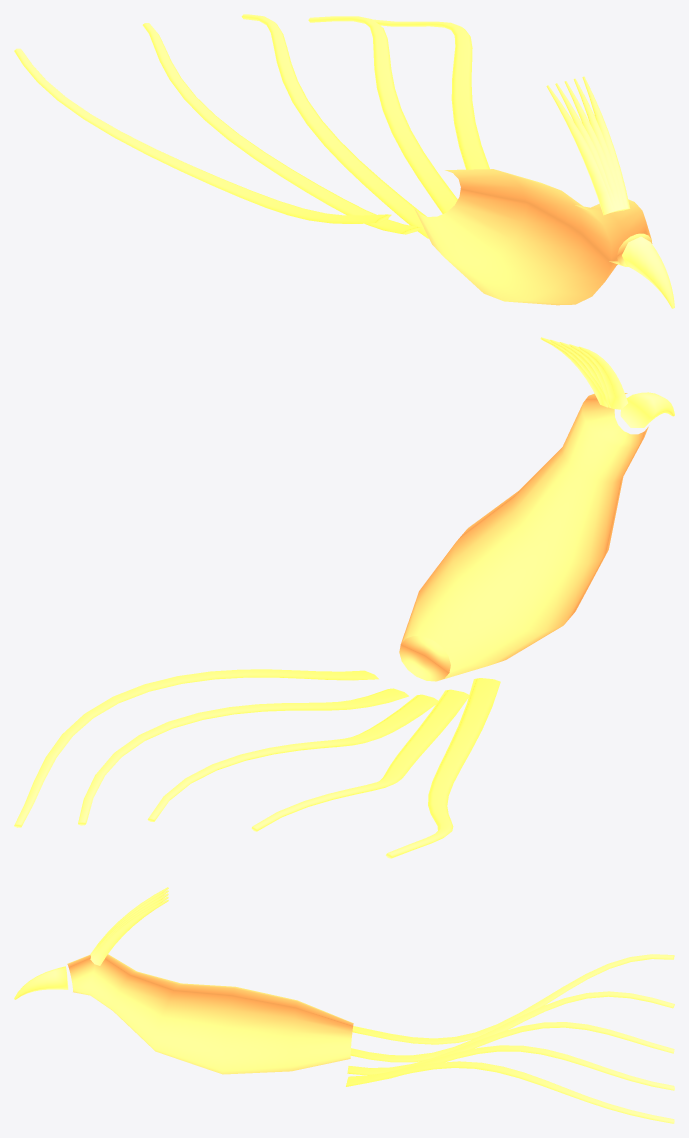
File: phoenix_body.glb
The picture shows the model from 3 angles, top to bottom: view 1: azimuth 30°, elevation 25°; view 2: azimuth 150°, elevation 25°; view 3: azimuth 270°, elevation 25°; orthographic projection. The views are drawn at different scales.
Visible parts, largest first — view 1: phoenix_body; view 2: phoenix_body; view 3: phoenix_body.
Part boxes in pixels (left/top/right/bottom): phoenix_body: left=14, top=14, right=674, bottom=308; phoenix_body: left=14, top=337, right=674, bottom=858; phoenix_body: left=14, top=887, right=674, bottom=1123.
Size of the model in its own units: 2.19 by 1.37 by 4.56.
